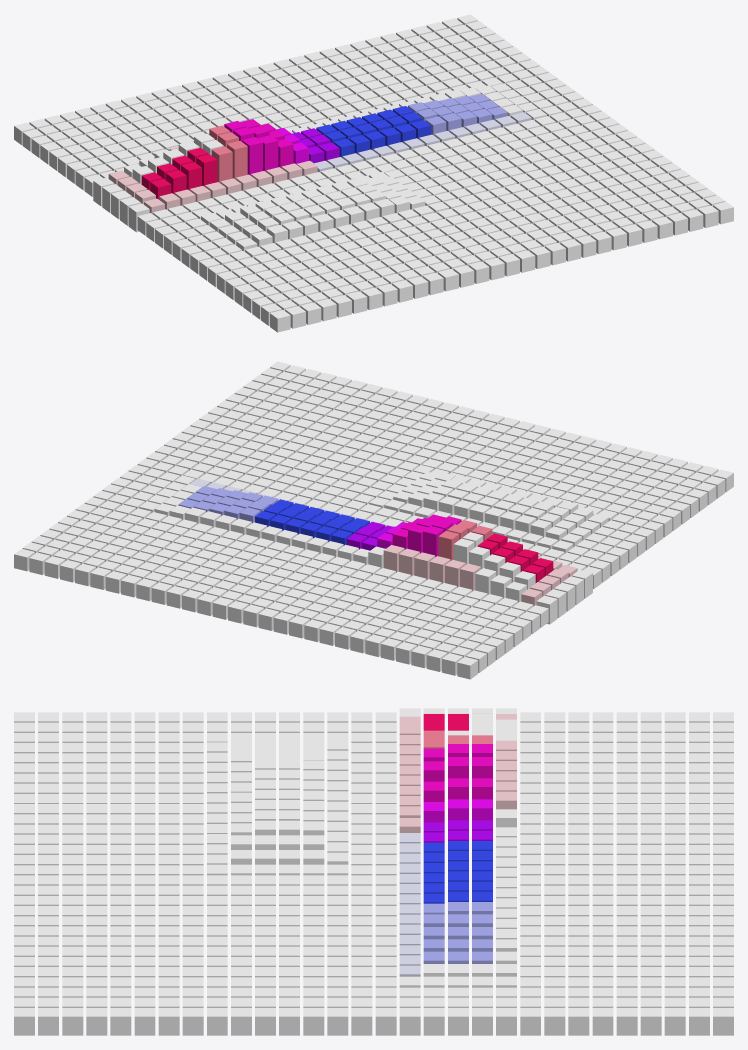
File: kouyaku5.glb
3 renders of one model, top to bottom at view 1: azimuth 30°, elevation 25°; view 2: azimuth 150°, elevation 25°; view 3: azimuth 270°, elevation 25°, orthographic. The views are drawn at different scales.
Parts seen in each view (by area): view 1: 立方体 517, 立方体 518, 立方体 516, 立方体 519; view 2: no part large enough to name; view 3: 立方体 89, 立方体 119, 立方体 149, 立方体 179, 立方体 209, 立方体 239, 立方体 389, 立方体 419, 立方体 449, 立方体 479, 立方体 509, 立方体 539 (+18 smaller).
Boxes of the visible parts, bbox=[...] form: 立方体 517: bbox=[227, 141, 247, 179]; 立方体 518: bbox=[242, 137, 262, 175]; 立方体 516: bbox=[211, 146, 232, 182]; 立方体 519: bbox=[258, 135, 278, 171]; 立方体 89: bbox=[62, 1008, 83, 1035]; 立方体 119: bbox=[86, 1008, 107, 1035]; 立方体 149: bbox=[110, 1008, 131, 1035]; 立方体 179: bbox=[134, 1008, 155, 1035]; 立方体 209: bbox=[158, 1008, 179, 1035]; 立方体 239: bbox=[182, 1008, 203, 1035]; 立方体 389: bbox=[303, 1008, 324, 1035]; 立方体 419: bbox=[327, 1008, 348, 1035]; 立方体 449: bbox=[351, 1008, 372, 1035]; 立方体 479: bbox=[375, 1008, 396, 1035]; 立方体 509: bbox=[399, 1008, 420, 1035]; 立方体 539: bbox=[423, 1008, 444, 1035].
Bounding box in the file's own units: 1030 × 188 × 1030.
